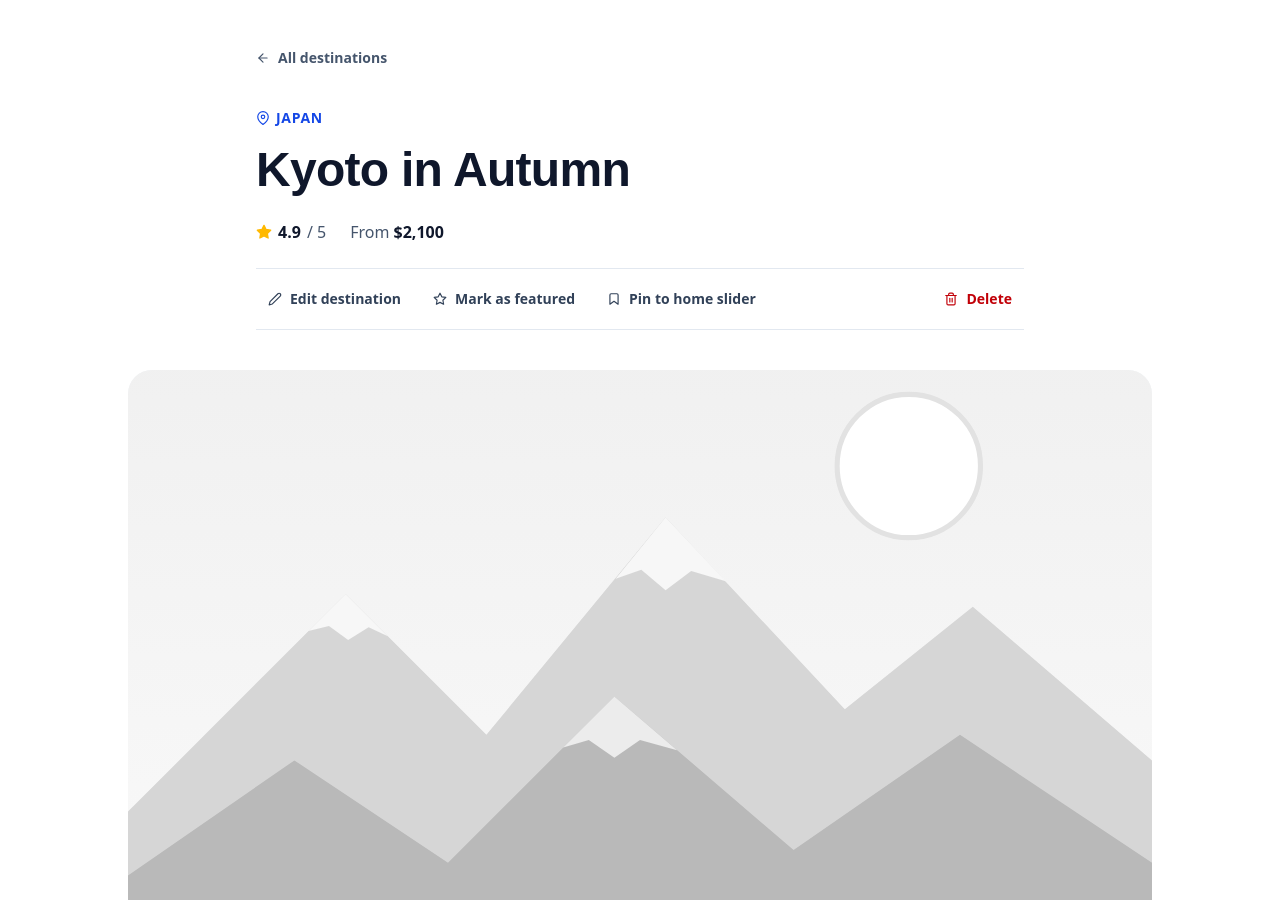
Test case: DestinationDetails › lets an admin mark the destination as featured, with no limit
The width and height of the screenshot is (1280, 900).
Click the button "Mark as featured" at (504, 299), box [421,281,587,317]
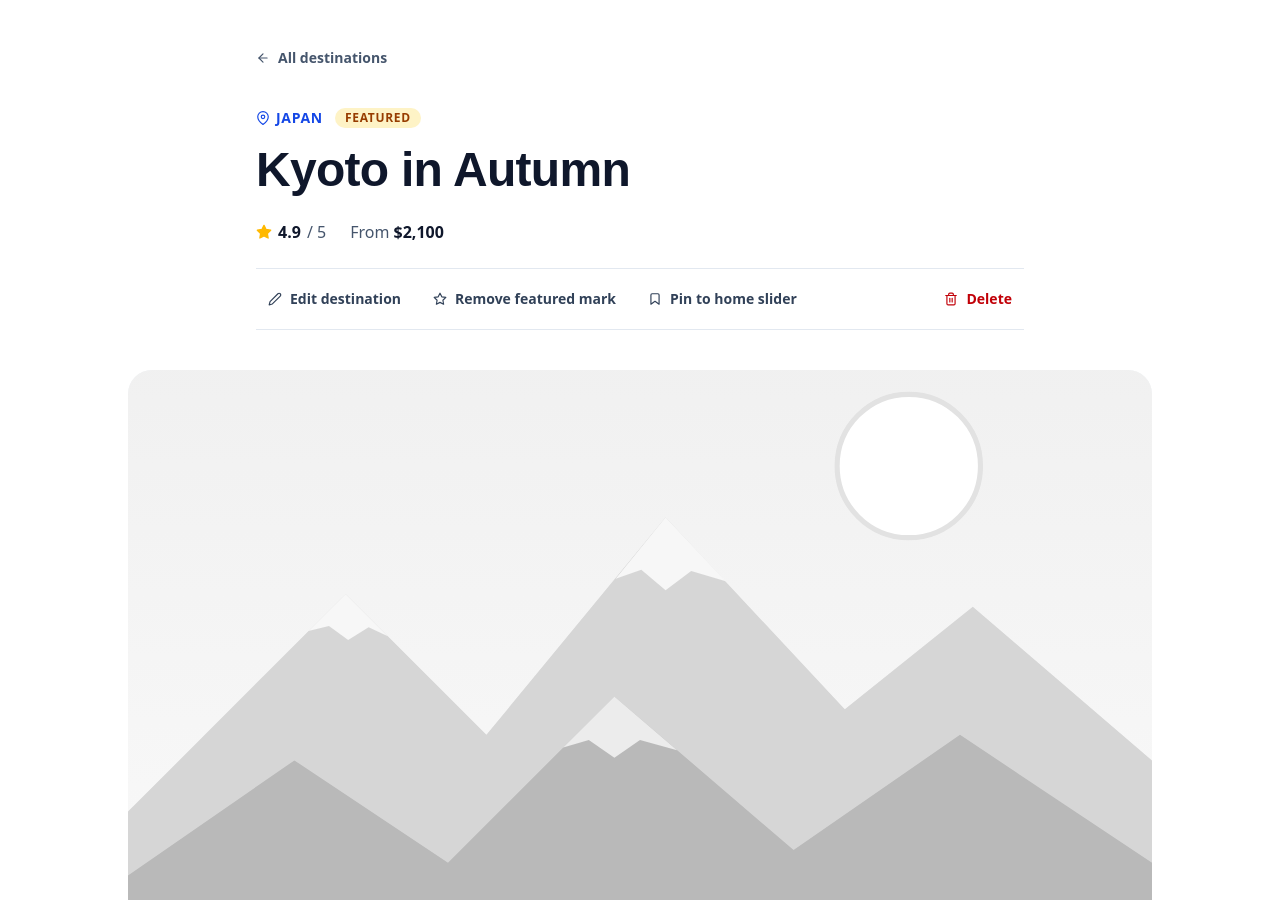
Expected: the button "Pin to home slider" is shown, [636,281,809,317]
Expected: the button "Remove featured mark" is shown, [421,281,628,317]
